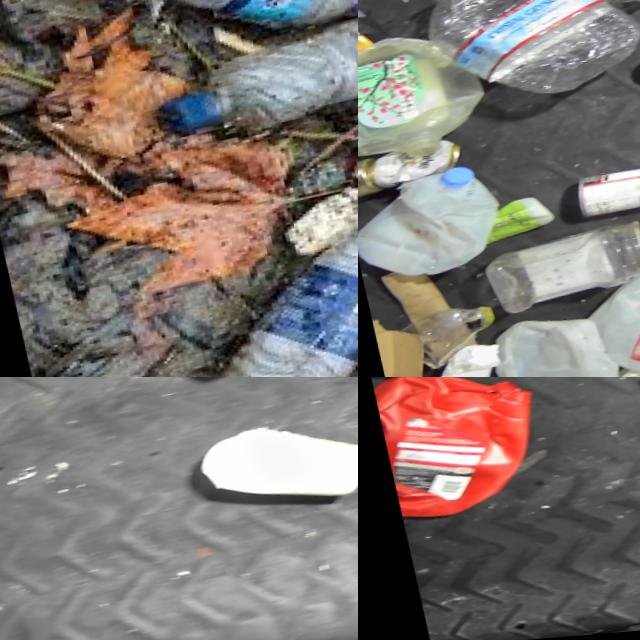can: (561, 160, 640, 230), (358, 142, 458, 194)
milk_jug: (358, 164, 506, 291), (473, 306, 611, 377), (582, 251, 640, 377)
non_white_jug: (364, 377, 542, 522)
plastic_bottle: (170, 184, 358, 377), (153, 0, 358, 155), (46, 0, 358, 83), (358, 377, 470, 390)
